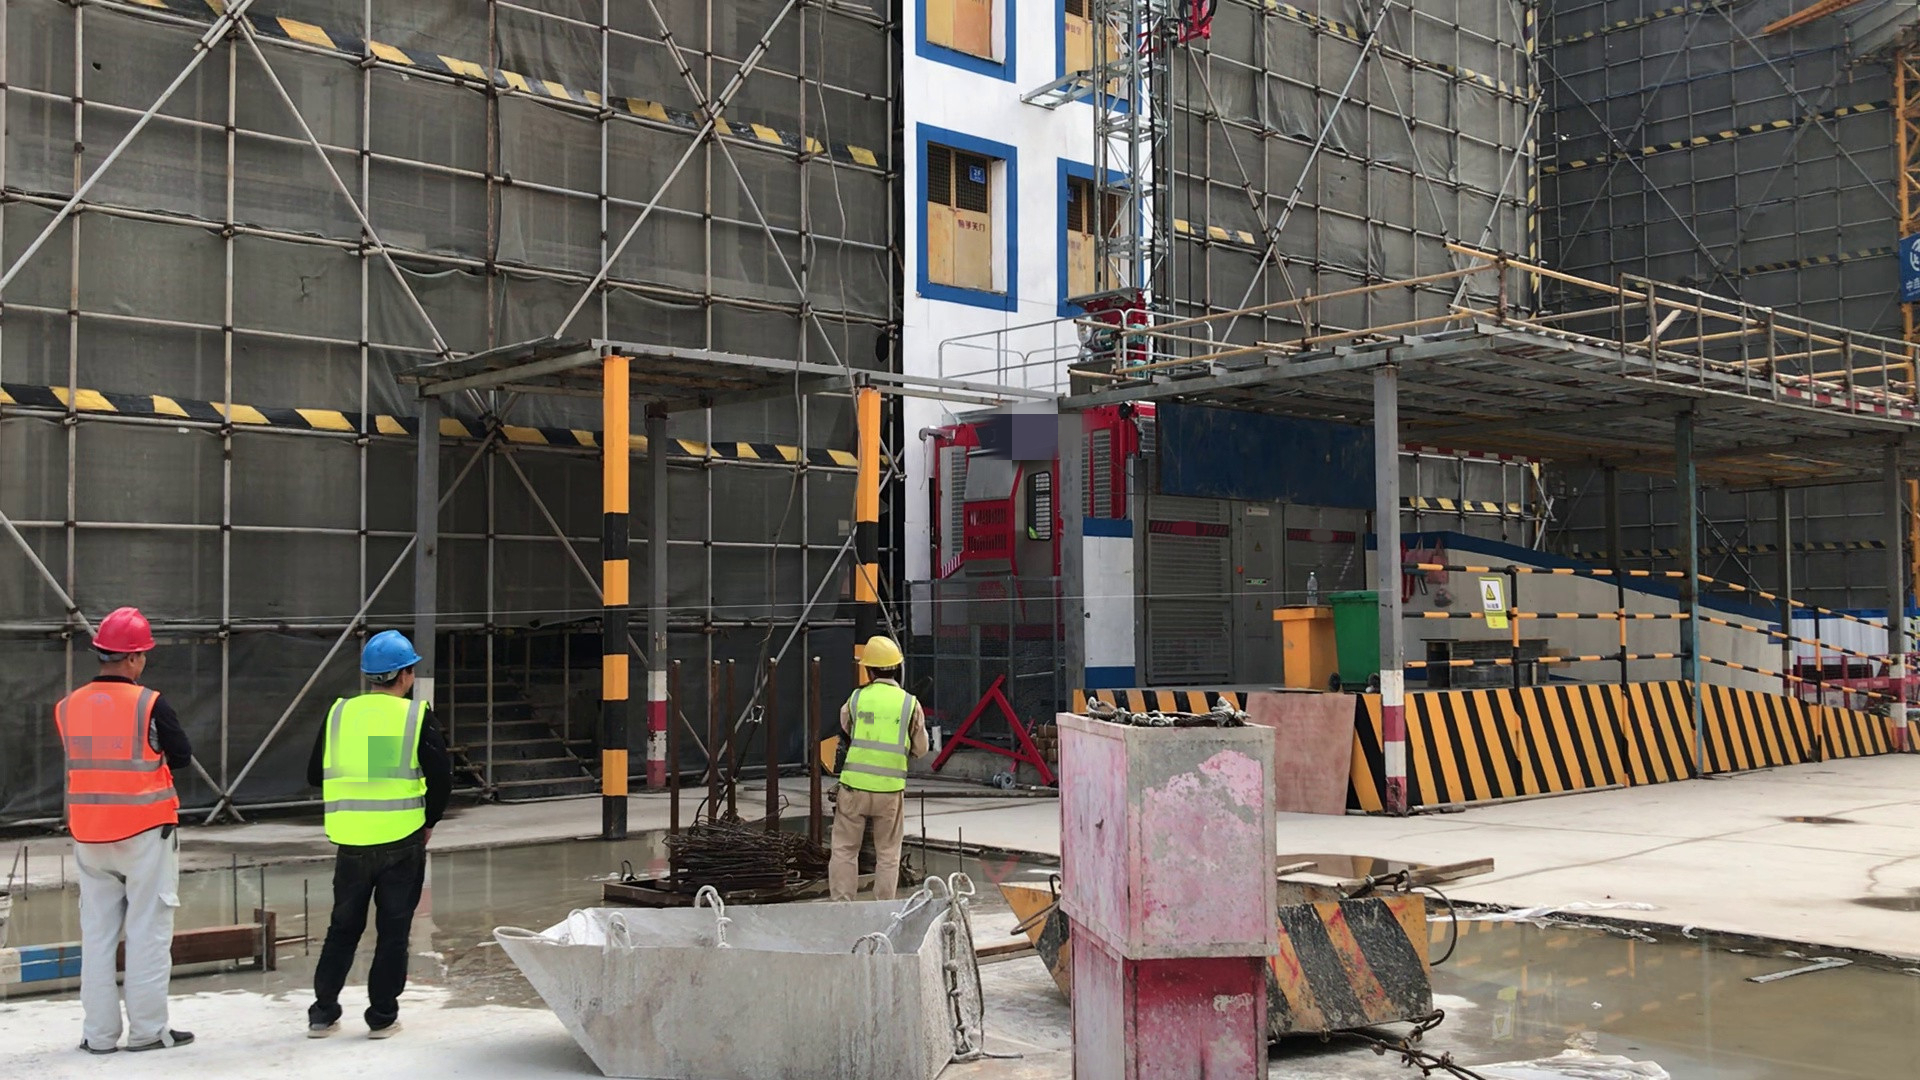fence: (1395, 544, 1920, 739)
helmet: (86, 605, 165, 657), (351, 630, 431, 678), (860, 634, 908, 670)
hopper: (494, 856, 972, 1080), (1001, 865, 1470, 1065)
person: (48, 604, 215, 1057), (304, 628, 454, 1044), (829, 633, 934, 900)
slogan: (1458, 544, 1531, 650)
vest: (50, 673, 183, 848), (318, 693, 431, 850), (841, 683, 922, 799)
